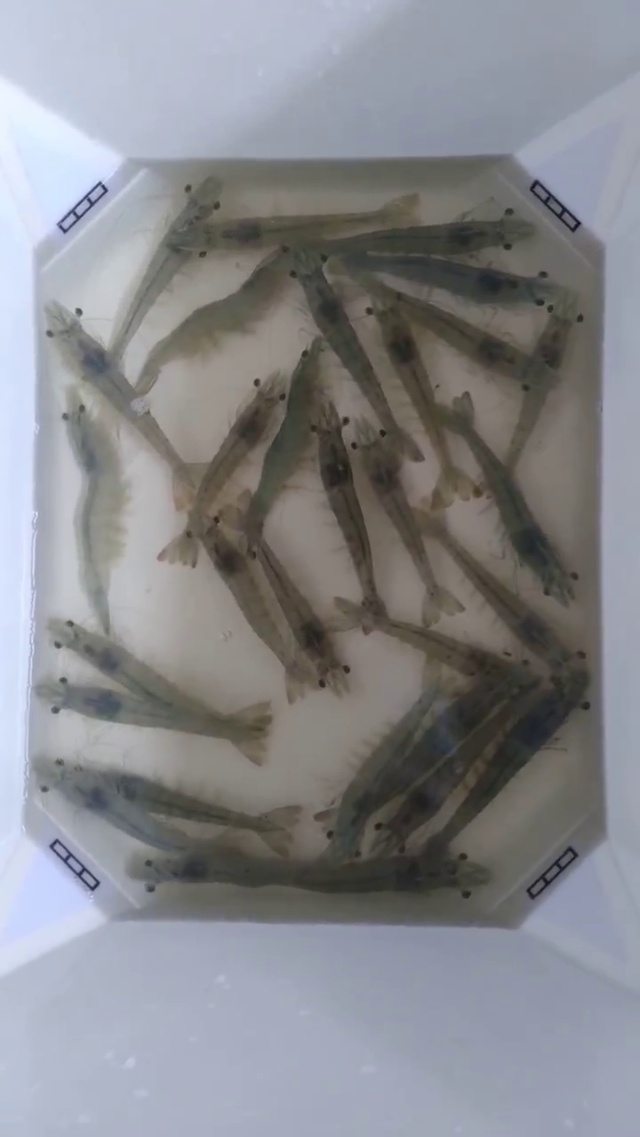shrimp: (523, 108, 639, 500), (544, 526, 639, 797), (0, 612, 104, 837), (166, 464, 282, 656), (0, 526, 84, 776), (27, 754, 145, 914), (317, 202, 425, 372), (405, 766, 514, 923), (443, 392, 535, 566), (122, 176, 222, 335), (45, 301, 134, 473), (446, 538, 563, 662), (277, 752, 372, 891), (339, 348, 424, 496), (505, 291, 573, 470), (221, 631, 311, 765), (505, 179, 582, 319), (207, 370, 289, 477), (224, 214, 356, 280), (320, 596, 389, 695)
